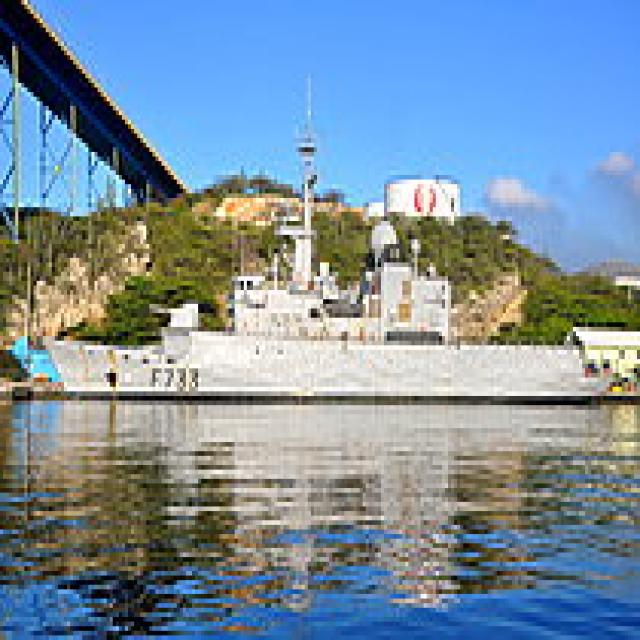Warship: (37, 64, 616, 400)
